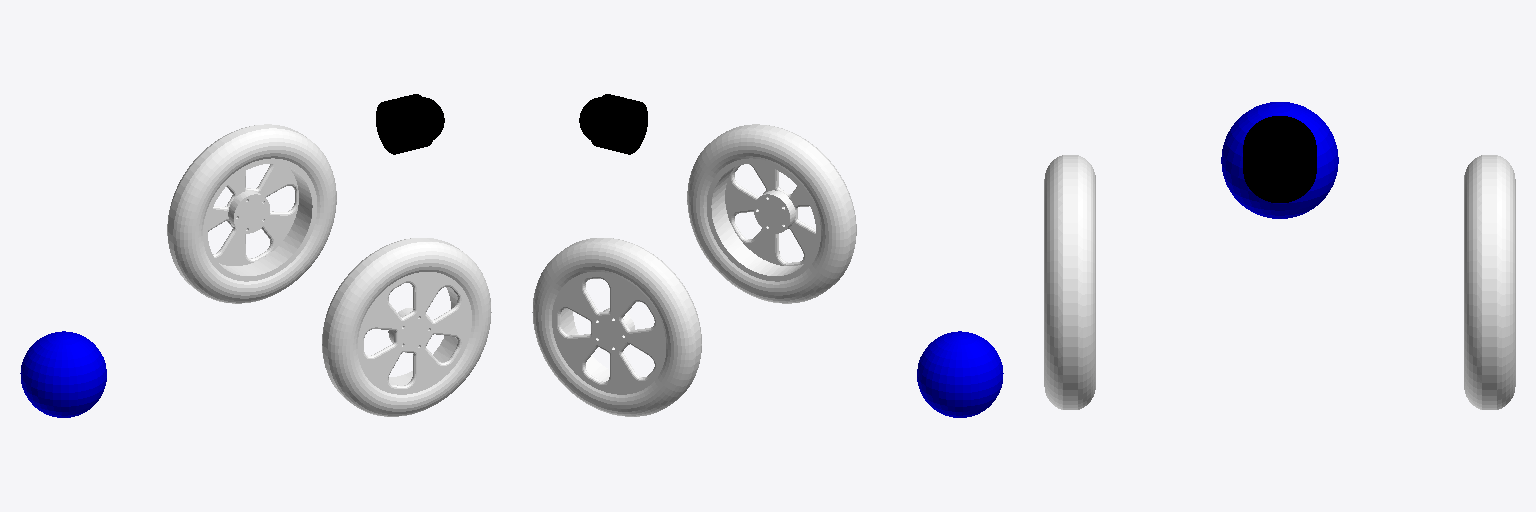
robot.urdf — rikkert:
<?xml version="1.0" ?>
<!-- =================================================================================== -->
<!-- |    This document was autogenerated by xacro from rikkert.xacro                  | -->
<!-- |    EDITING THIS FILE BY HAND IS NOT RECOMMENDED                                 | -->
<!-- =================================================================================== -->
<robot name="rikkert">
  <!-- ****************** ROBOT BASE FOOTPRINT ***************************  -->
  <!-- Define the center of the main robot chassis projected on the ground -->
  <link name="base_footprint"/>
  <!-- ********************** ROBOT BASE *********************************  -->
  <link name="base_link">
    <visual>
      <origin rpy="0 0 1.5707963267948966" xyz="0 0 -0.125"/>
      <geometry>
        <mesh filename="package://meshes/Base_platform.stl" scale="0.001 0.001 0.001"/>
      </geometry>
      <material name="Grey">
        <color rgba="0.7490196078431373 0.7490196078431373 0.7490196078431373 1.0"/>
      </material>
    </visual>
    <collision>
      <origin rpy="0 0 1.5707963267948966" xyz="0 0 -0.125"/>
      <geometry>
        <mesh filename="package://meshes/Base_platform.stl" scale="0.001 0.001 0.001"/>
      </geometry>
    </collision>
    <inertial>
      <origin rpy="1.5707963267948966 0 1.5707963267948966" xyz="0 0 0"/>
      <mass value="0.4"/>
      <inertia ixx="0.01" ixy="0.0" ixz="0.0" iyy="0.01" iyz="0.0" izz="0.01"/> 
    </inertial>
  </link>
  <!-- The base footprint of the robot is located underneath the chassis -->
  <joint name="footprint_base" type="fixed">
    <parent link="base_footprint"/>
    <child link="base_link"/>
    <origin rpy="0 0 0" xyz="0.0 0.0 0.125"/>
  </joint>
  <!-- *********************** DRIVE WHEELS ******************************  -->
  <link name="right_wheel">
    <visual>
      <origin rpy="0 0 -1.5707963267948966" xyz="0 0 0"/>
      <geometry>
        <mesh filename="package://meshes/Drive_Wheel.stl" scale="0.001 0.001 0.001"/>
      </geometry>
      <material name="White">
        <color rgba="1.0 1.0 1.0 1.0"/>
      </material>
    </visual>
    <collision>
      <origin rpy="0 0 -1.5707963267948966" xyz="0 0 0"/>
      <geometry>
        <mesh filename="package://meshes/Drive_Wheel.stl" scale="0.001 0.001 0.001"/>
      </geometry>
    </collision>
    <inertial>
      <origin rpy="1.5707963267948966 0 0" xyz="0 0 0"/>
      <mass value="0.1105"/>
      <inertia ixx="0.8315125000000002" ixy="0" ixz="0" iyy="0.8315125000000002" iyz="0" izz="1.5967250000000004"/>
    </inertial>
  </link>
  <!-- Connect the wheels to the base_link at the appropriate location, and 
        define a continuous joint to allow the wheels to freely rotate about
        an axis -->
  <joint name="right_wheel_joint" type="continuous">
    <parent link="base_link"/>
    <child link="right_wheel"/>
    <origin rpy="0 0 0" xyz="0.28 -0.285 0.05"/>
    <!-- <limit upper="3.1415" lower="-3.1415" effort="30" velocity="5.0"/> -->
    <axis xyz="0 1 0"/>
    <dynamics damping="0.0" friction="0.0"/>
    <limit lower="-100000000" upper="100000000" effort="1000" velocity="100000000"/>

  </joint>
  <link name="left_wheel">
    <visual>
      <origin rpy="0 0 1.5707963267948966" xyz="0 0 0"/>
      <geometry>
        <mesh filename="package://meshes/Drive_Wheel.stl" scale="0.001 0.001 0.001"/>
      </geometry>
      <material name="White">
        <color rgba="1.0 1.0 1.0 1.0"/>
      </material>
    </visual>
    <collision>
      <origin rpy="0 0 1.5707963267948966" xyz="0 0 0"/>
      <geometry>
        <mesh filename="package://meshes/Drive_Wheel.stl" scale="0.001 0.001 0.001"/>
      </geometry>
    </collision>
    <inertial>
      <origin rpy="1.5707963267948966 0 0" xyz="0 0 0"/>
      <mass value="0.1105"/>
      <inertia ixx="0.8315125000000002" ixy="0" ixz="0" iyy="0.8315125000000002" iyz="0" izz="1.5967250000000004"/>
    </inertial>
  </link>
  <!-- Connect the wheels to the base_link at the appropriate location, and 
        define a continuous joint to allow the wheels to freely rotate about
        an axis -->
  <joint name="left_wheel_joint" type="continuous">
    <parent link="base_link"/>
    <child link="left_wheel"/>
    <origin rpy="0 0 0" xyz="0.28 0.285 0.05"/>
    <!-- <limit upper="3.1415" lower="-3.1415" effort="30" velocity="5.0"/> -->
    <axis xyz="0 1 0"/>
    <limit lower="-100000000" upper="100000000" effort="1000" velocity="100000000"/>

    <dynamics damping="0.0" friction="0.0"/>
  </joint>
  <!-- *********************** CASTER WHEEL ******************************  -->
  <!-- We add a caster wheel. It will be modeled as sphere.
       We define the wheel’s geometry, material and the joint to connect it to 
       base_link at the appropriate location. -->
  <link name="rear_caster">
    <visual>
      <origin rpy="3.141592653589793 0 3.141592653589793" xyz="0 0 0"/>
      <geometry>
        <sphere radius="0.08"/>        </geometry>
      <material name="Blue">
        <color rgba="0.0 0.0 1.0 1.0"/>
      </material>
    </visual>
    <collision>
      <origin rpy="3.141592653589793 0 3.141592653589793" xyz="0 0 0"/>
      <geometry>
<sphere radius="0.08"/>      </geometry>
    </collision>
    <inertial>
      <mass value="0.0105"/>
      <inertia ixx="0.000003528" ixy="0.0" ixz="0.0" iyy="0.000003528" iyz="0.0" izz="0.000003528" />
        </inertial>
  </link>
  <joint name="caster_joint" type="revolute">
    <parent link="base_link"/>
    <child link="rear_caster"/>
    <origin rpy="0 0 0" xyz="-0.28500000000000003 0 -0.03"/>
    <limit lower="-100000000" upper="100000000" effort="1000" velocity="100000000" />
    <axis xyz="1 1 0"/>
    

  </joint>
  <!-- ********************** SENSORS **************************** -->
  <link name="hokuyo">
    <visual>
      <origin rpy="0 0 0" xyz="0 0 0"/>
      <geometry>
        <mesh filename="package://meshes/Hokuyo_UTM-30LX.stl" scale="0.01 0.01 0.01"/>
      </geometry>
      <material name="black">
        <color rgba="0.0 0.0 0.0 0.9"/>
      </material>
    </visual>
    <collision>
      <origin rpy="0 0 0" xyz="0 0 0"/>
      <geometry>
        <mesh filename="package://meshes/Hokuyo_UTM-30LX.stl" scale="0.01 0.01 0.01"/>
      </geometry>
    </collision>
    <inertial>
      <origin rpy="1.5707963267948966 0 0" xyz="0 0 0"/>
      <mass value="0.3"/>
      <inertia ixx="0.8315125000000002" ixy="0" ixz="0" iyy="0.8315125000000002" iyz="0" izz="1.5967250000000004"/>
    </inertial>
  </link>
  <joint name="hokuyo_joint" type="fixed">
    <parent link="base_link"/>
    <child link="hokuyo"/>
    <origin rpy="0 0 0" xyz="0 0 0.415"/>
  </joint>
  <link name="rs_bpearl">
    <visual>
      <origin rpy="0 0 0" xyz="0 0 0"/>
      <geometry>
        <mesh filename="package://meshes/RS_BPearl.stl" scale="0.001 0.001 0.001"/>
      </geometry>
      <material name="black">
        <color rgba="0.0 0.0 0.0 0.9"/>
      </material>
    </visual>
    <collision>
      <origin rpy="0 0 0" xyz="0 0 0"/>
      <geometry>
        <mesh filename="package://meshes/RS_BPearl.stl" scale="0.001 0.001 0.001"/>
      </geometry>
    </collision>
    <inertial>
      <origin rpy="1.5707963267948966 0 0" xyz="0 0 0"/>
      <mass value="0.1105"/>
      <inertia ixx="0.8315125000000002" ixy="0" ixz="0" iyy="0.8315125000000002" iyz="0" izz="1.5967250000000004"/>
    </inertial>
  </link>
  <joint name="bpearl_joint" type="fixed">
    <parent link="base_link"/>
    <child link="rs_bpearl"/>
    <origin rpy="0 -1.5707963267948966 3.141592653589793" xyz="0.40750000000000003 0 0.30999999999999994"/>
  </joint>
</robot>

--- What the picture shows (computed from the rendered views, not written in the file) ---
Views: 3 orthographic renders of the robot side by side, from view 1: azimuth 30°, elevation 25°; view 2: azimuth 150°, elevation 25°; view 3: azimuth 270°, elevation 25°.
Robot: rikkert — 7 links, 6 joints (1 revolute, 2 continuous, 3 fixed); root link base_footprint; default pose: all joints at 0.
Links seen in each view (by area): view 1: left_wheel, right_wheel, rear_caster, rs_bpearl; view 2: right_wheel, left_wheel, rear_caster, rs_bpearl; view 3: right_wheel, left_wheel, rs_bpearl, rear_caster.
Link boxes in pixels (x1,y1,x2,y2): left_wheel: (167,124,336,303); right_wheel: (322,238,491,416); rear_caster: (20,331,106,417); rs_bpearl: (376,94,444,154); right_wheel: (687,124,856,303); left_wheel: (532,238,701,416); rear_caster: (917,331,1003,417); rs_bpearl: (579,94,647,154); right_wheel: (1044,155,1095,409); left_wheel: (1464,155,1515,409); rs_bpearl: (1243,116,1316,202); rear_caster: (1221,102,1338,218).
Bounding box of the posed robot: 0.8835 × 0.64 × 0.4835 m (x, y, z).
Meshes: 4 distinct files referenced, 3 mesh visuals loaded (2 binary STL); not drawn: 2 (reference not matched to a file when rendering).
